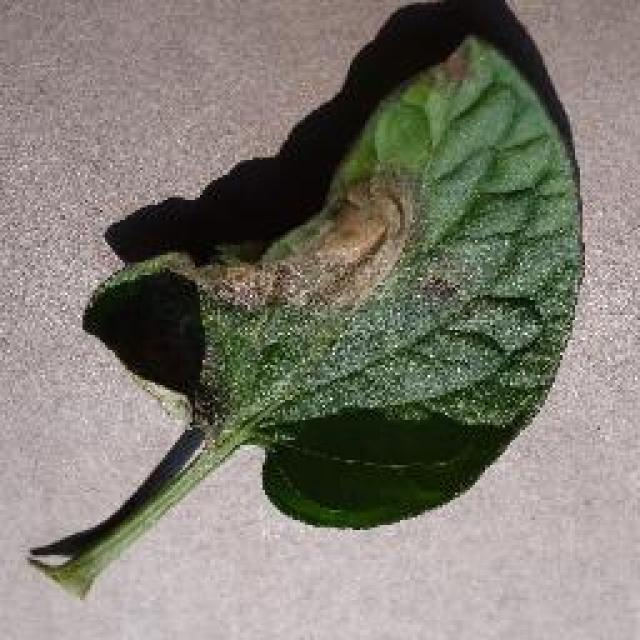Tomato late blight leaf: (84, 29, 586, 566)
